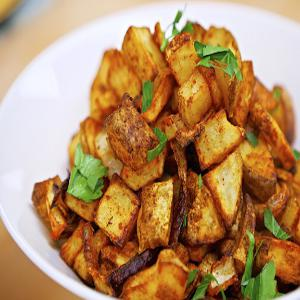fries_350cal: (25, 30, 300, 283)
